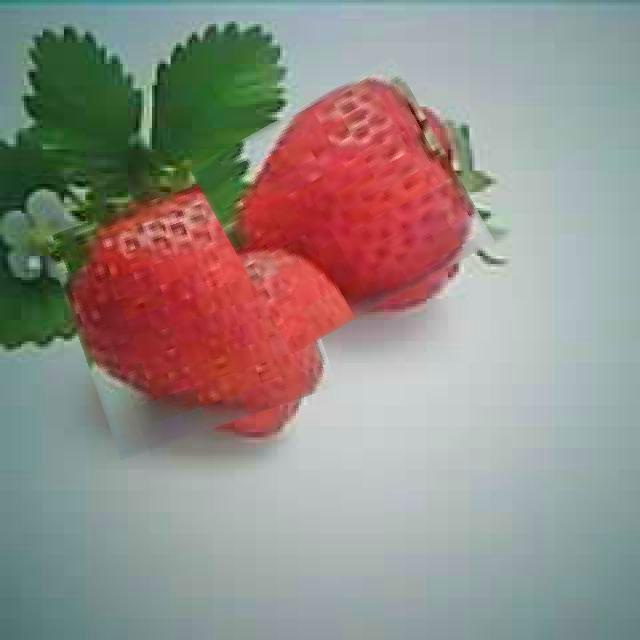strawberry: (61, 178, 322, 446), (208, 79, 476, 333)
